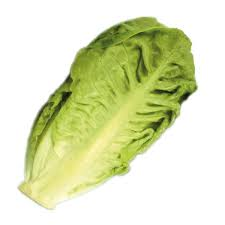lettuce: (20, 21, 169, 189)
